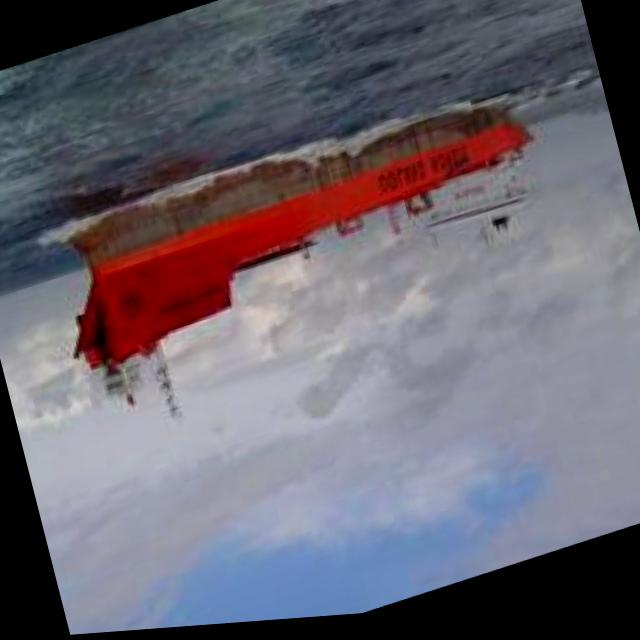ship2: (64, 114, 531, 424)
